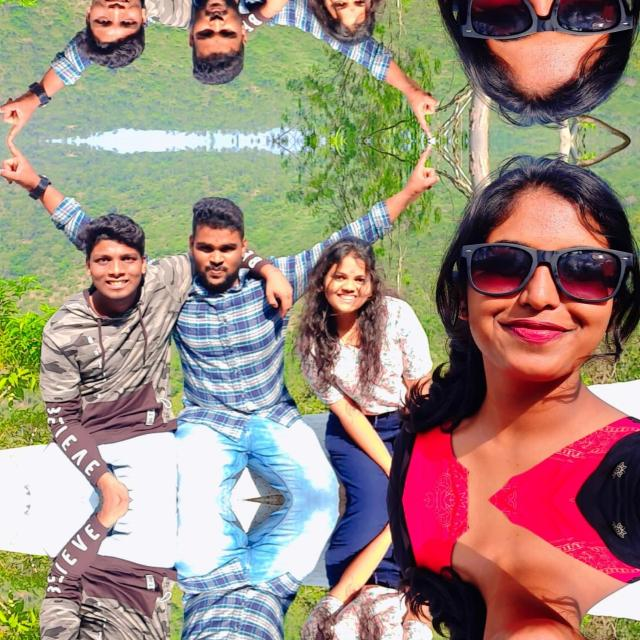person: (430, 171, 640, 499), (175, 184, 313, 482), (38, 212, 178, 492), (430, 500, 640, 640), (299, 248, 423, 460), (430, 0, 640, 109), (38, 506, 178, 640), (175, 517, 313, 640), (175, 0, 313, 95), (299, 539, 423, 640), (38, 0, 178, 68), (299, 0, 423, 31)
